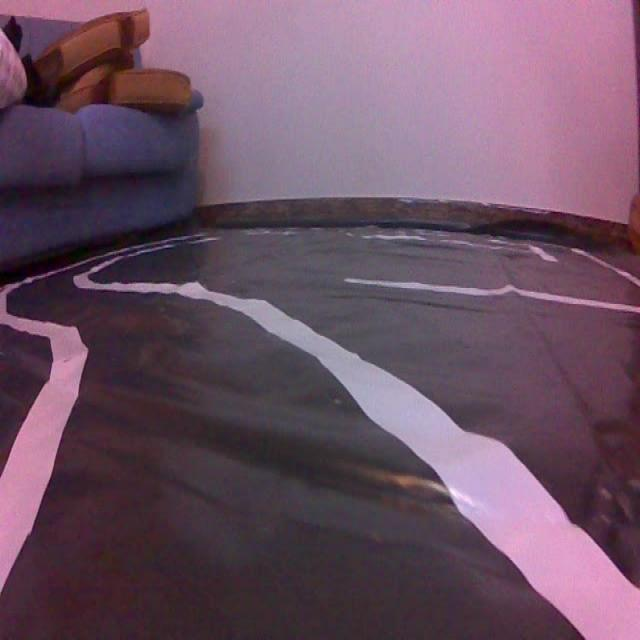LineaCarril: (74, 267, 640, 638), (0, 283, 88, 592)
